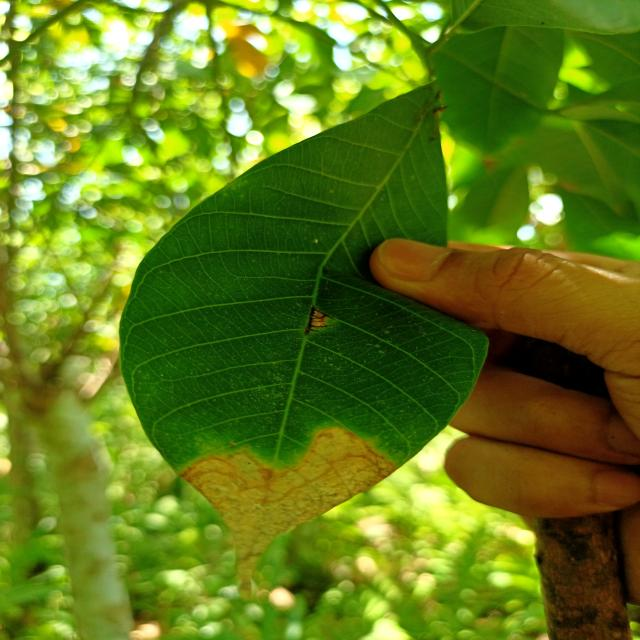Corynespora: (304, 306, 334, 336)
Leaf-Blight: (175, 425, 398, 598)
